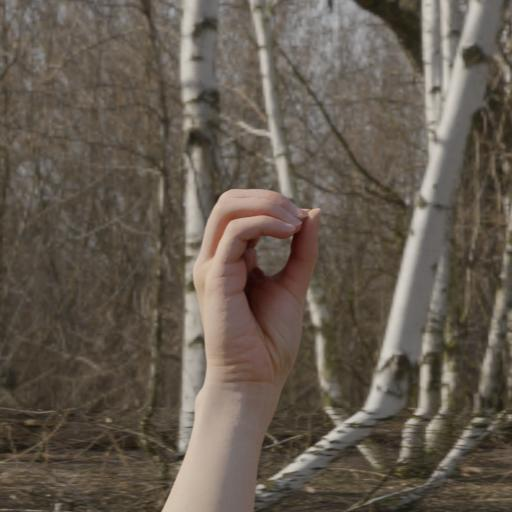O: (174, 181, 333, 388)
